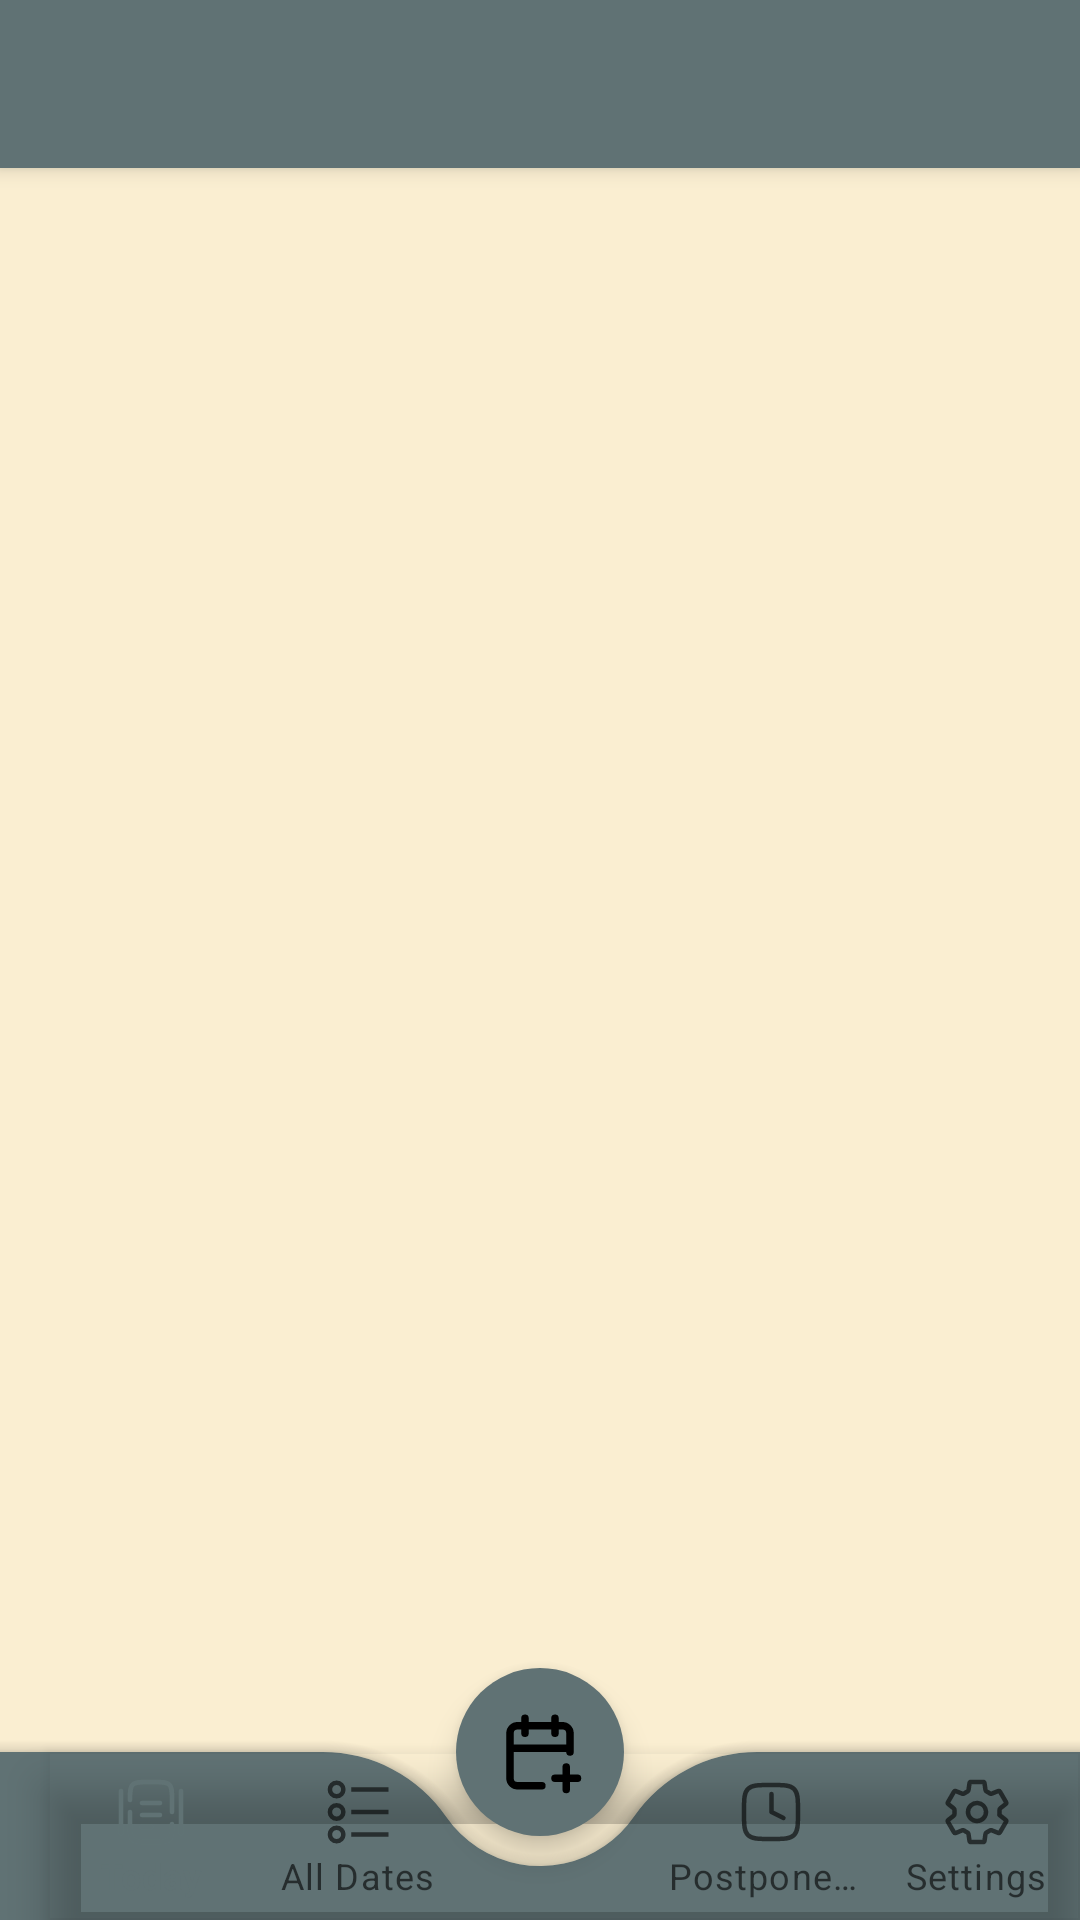

Icons on this 1080w x 1920h Android screen, each with the point to tap as point (x, y):
tablercalendarplus: point (540, 1752)
